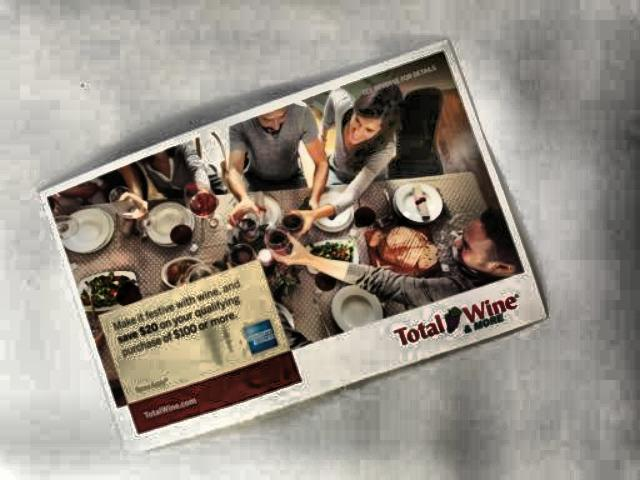Paper: (32, 32, 557, 436)
